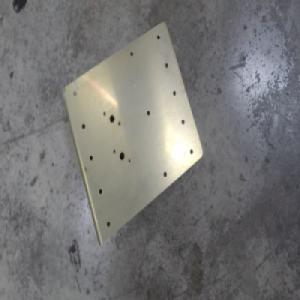MetalSheet: (61, 17, 203, 247)
